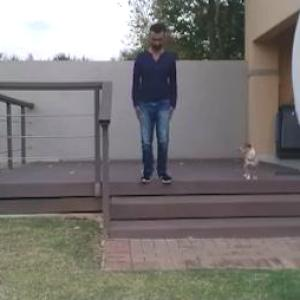follow: (130, 24, 171, 190)
